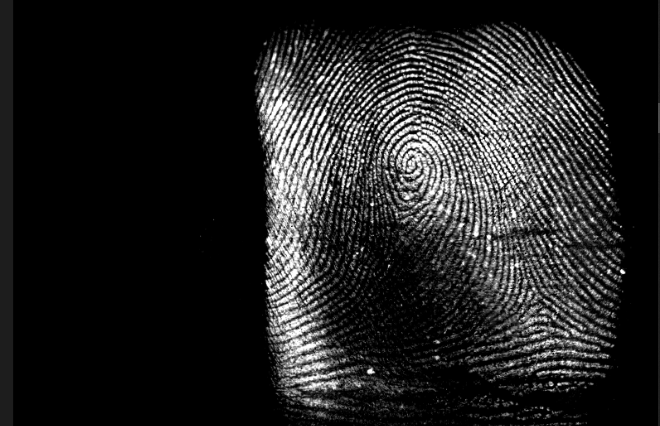nucelo: (397, 145, 428, 186)
verticilo: (522, 287, 557, 317), (383, 200, 409, 229)
